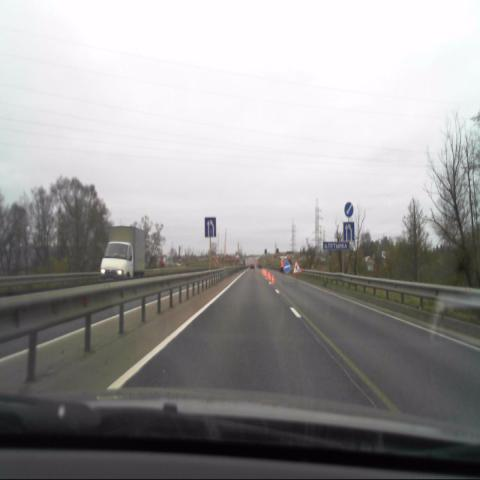5_15_5: (343, 222, 354, 242)
